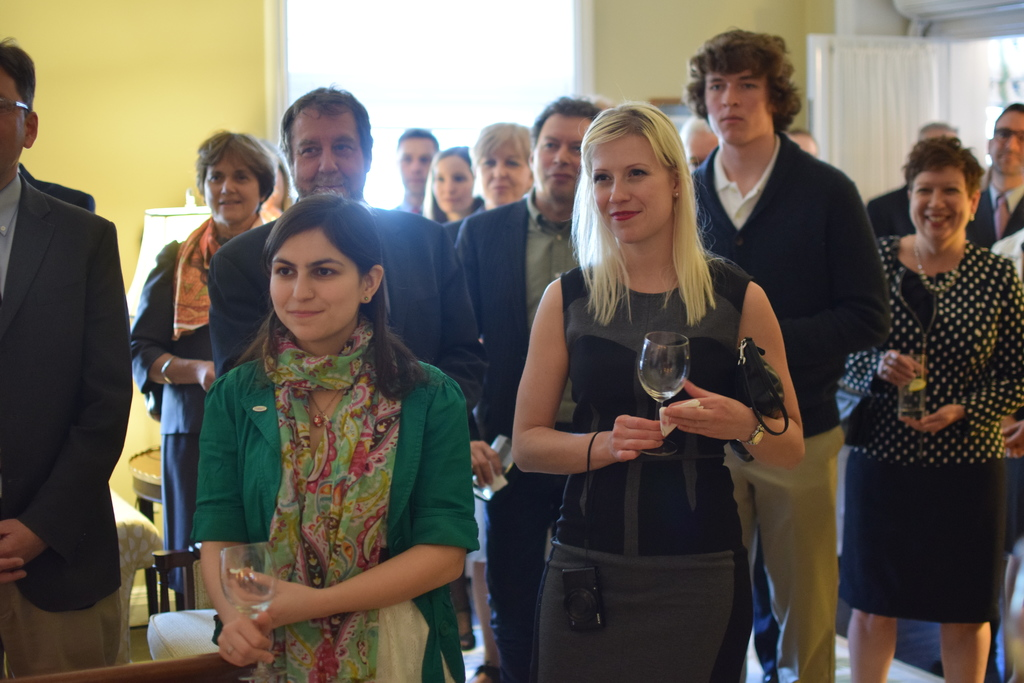Human-face: (269, 229, 360, 342), (591, 132, 670, 242), (292, 104, 364, 199), (532, 113, 590, 199), (705, 69, 767, 145), (910, 171, 970, 242), (202, 156, 259, 222), (478, 142, 532, 204), (0, 74, 26, 172), (433, 156, 473, 213), (399, 140, 434, 192), (994, 113, 1023, 174)
